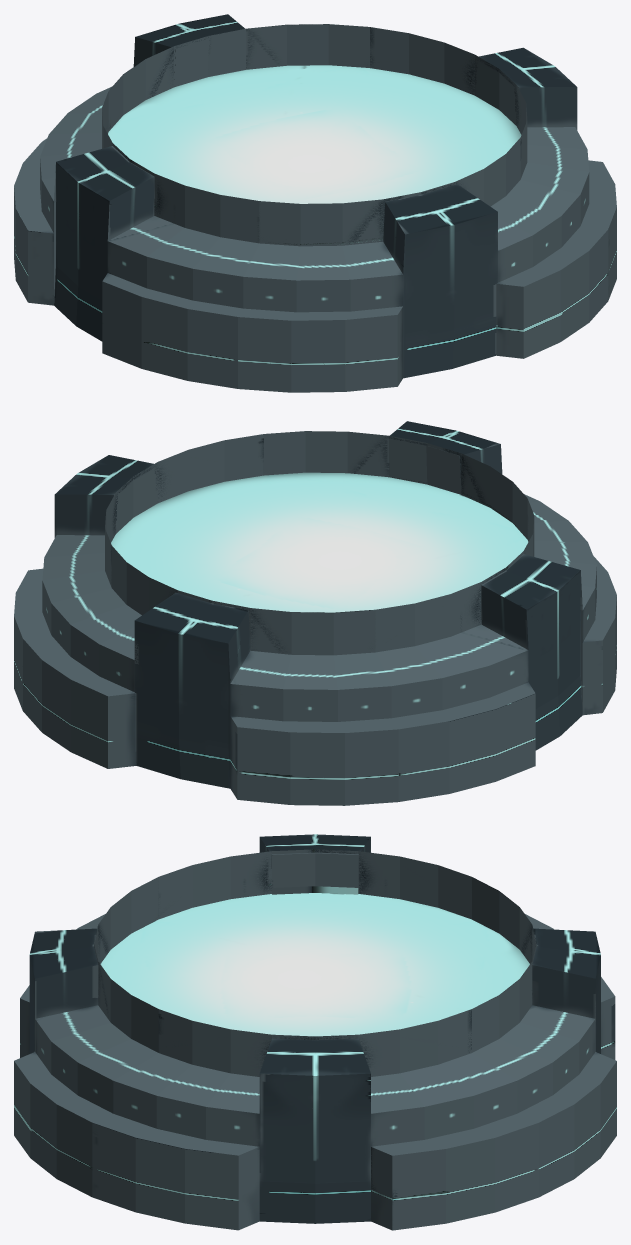
File: Transporter.fbx
The picture shows the model from 3 angles, top to bottom: view 1: azimuth 30°, elevation 25°; view 2: azimuth 150°, elevation 25°; view 3: azimuth 270°, elevation 25°; orthographic projection. The views are drawn at different scales.
Parts seen in each view (by area): view 1: Cylinder; view 2: Cylinder; view 3: Cylinder.
Part boxes in pixels (x1=…): Cylinder: x1=14, y1=14, x2=616, y2=392; Cylinder: x1=14, y1=421, x2=616, y2=805; Cylinder: x1=14, y1=834, x2=616, y2=1230.
Bounding box in the file's own units: 300 × 88.19 × 301.
1 material, 1 textured.
